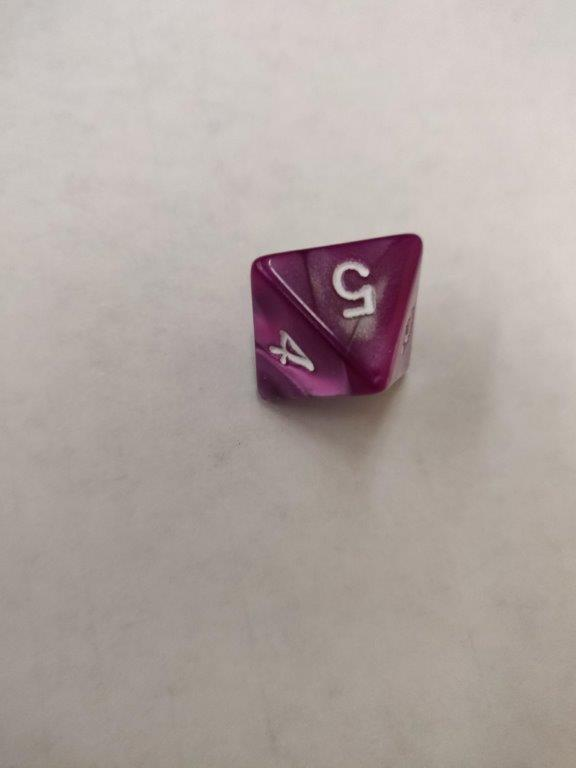d8-5: (251, 233, 421, 400)
